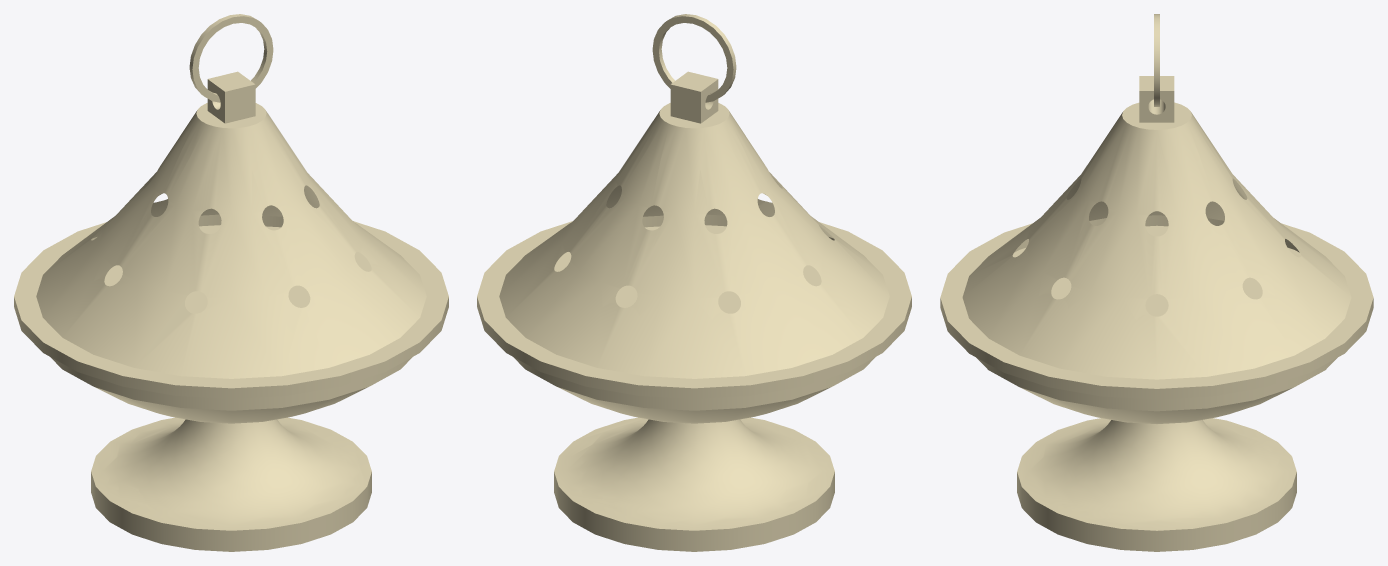
The model's file is INCENSARIO-PEQUEÑO2.glb.
3 renders of one model, left to right at view 1: azimuth 30°, elevation 25°; view 2: azimuth 150°, elevation 25°; view 3: azimuth 270°, elevation 25°, orthographic.
Visible parts, largest first — view 1: SketchUp; view 2: SketchUp; view 3: SketchUp.
Part boxes in pixels (x1,y1,x2,y2): SketchUp: (14,14,448,551); SketchUp: (477,14,911,551); SketchUp: (940,14,1373,551).
Bounding box in the file's own units: 0.236 × 0.2853 × 0.236.
